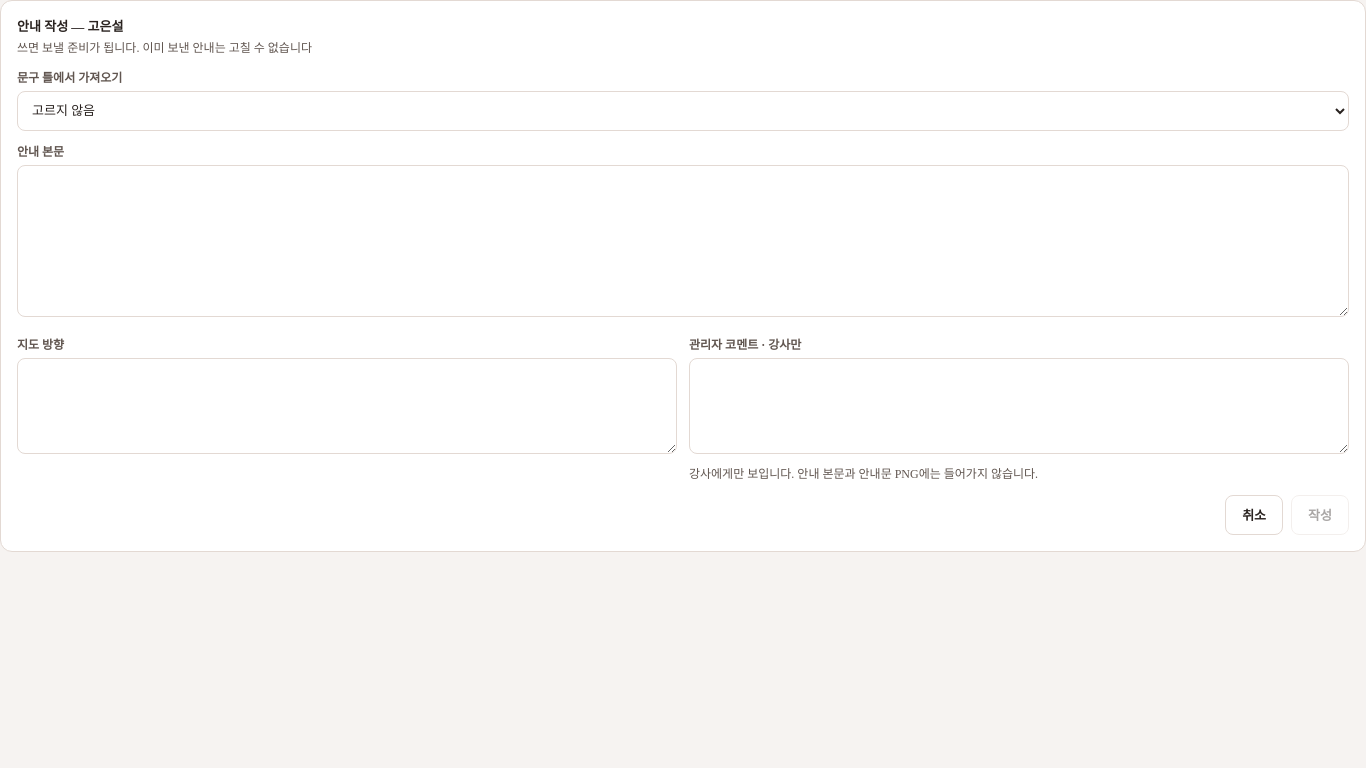
Test: 본문이 비면 작성을 누를 수 없다
Expected: the button "작성" is disabled, [1291,495,1349,535]
Type "내용" into the text box labelled "안내 본문" at [683, 241], box [17,164,1349,317]
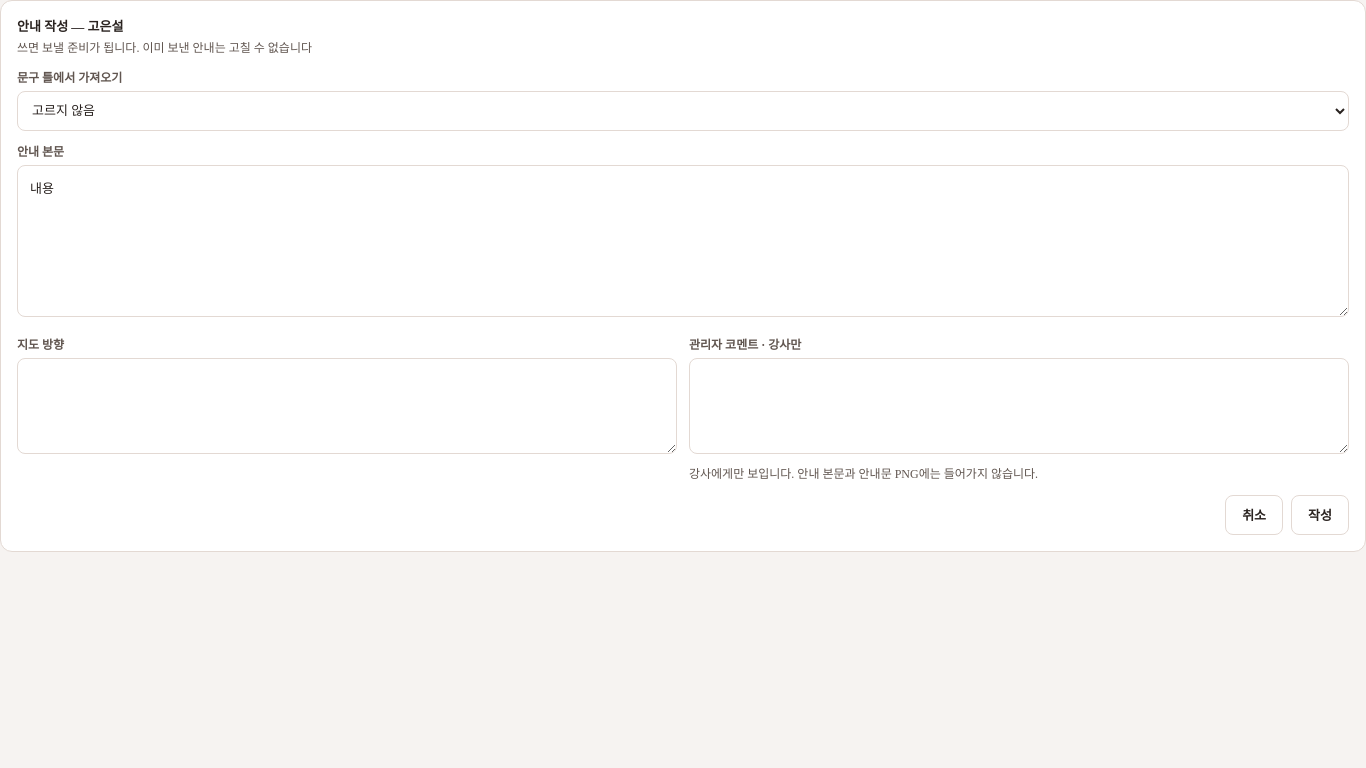
Expected: the button "작성" is enabled, [1291,495,1349,535]
